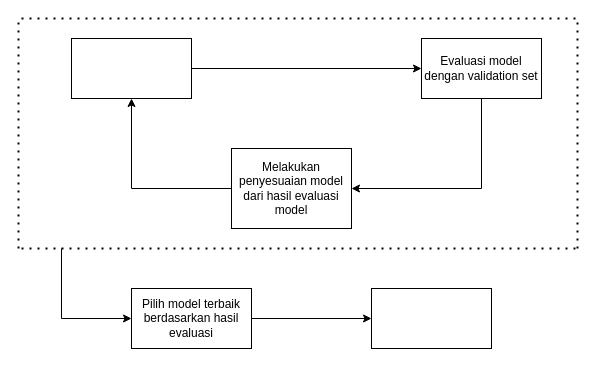
Image size: 600x366. Some labels were removed from this diagram. Each missing label, with the box of its shape:
Melatih model dengan training set: (70, 38, 192, 98)
Pengecekan dengan menggunakan test set: (370, 288, 492, 348)
